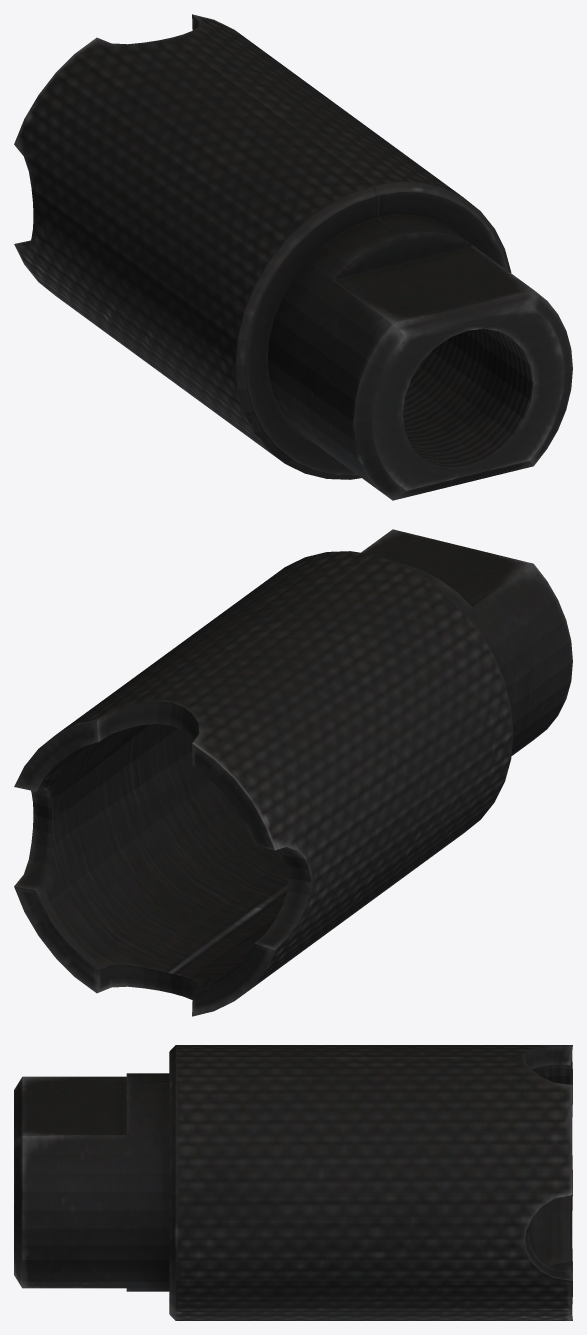
3 views of the same model, one above another, from view 1: azimuth 30°, elevation 25°; view 2: azimuth 150°, elevation 25°; view 3: azimuth 270°, elevation 25° (orthographic). The views are drawn at different scales.
Parts seen in each view (by area): view 1: TW_6621455e3aceea9e2b0b01e7_PZ_Import; view 2: TW_6621455e3aceea9e2b0b01e7_PZ_Import; view 3: TW_6621455e3aceea9e2b0b01e7_PZ_Import.
Boxes of the visible parts, x1,y1,x2,y2 form: TW_6621455e3aceea9e2b0b01e7_PZ_Import: [14, 14, 572, 500]; TW_6621455e3aceea9e2b0b01e7_PZ_Import: [14, 529, 572, 1016]; TW_6621455e3aceea9e2b0b01e7_PZ_Import: [14, 1045, 572, 1320].
Bounding box in the file's own units: 0.0152 × 0.0306 × 0.0152.
Materials: 1 (1 with a texture image).
